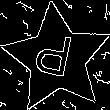P_S: (34, 30, 80, 87)
